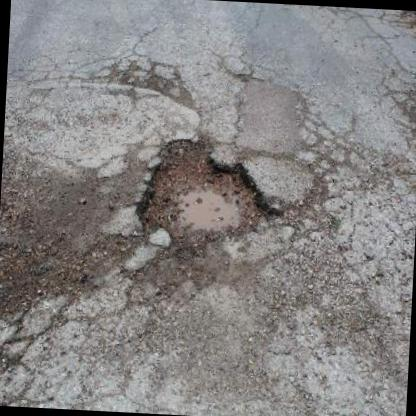pothole: (128, 128, 284, 260)
